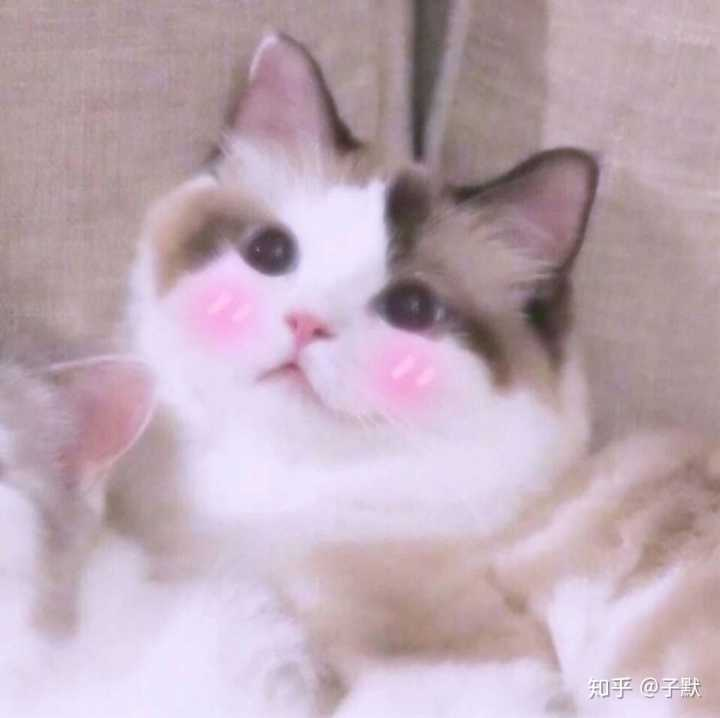cat: (114, 28, 632, 520)
